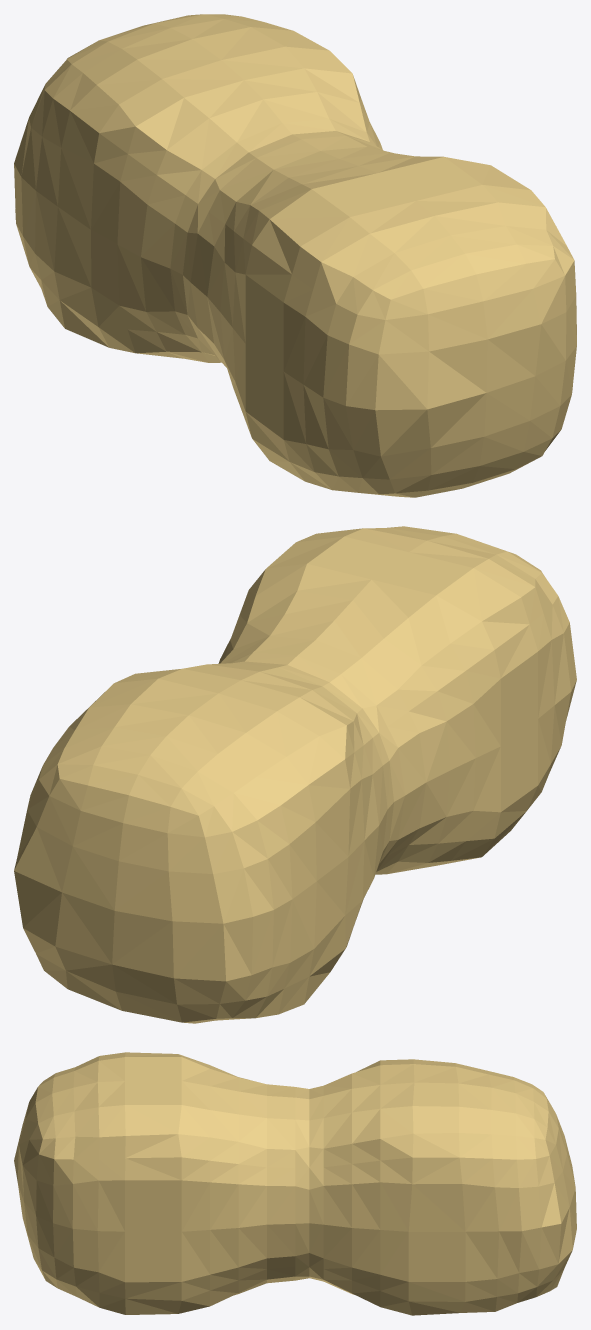
The model's file is beans.dae.
The picture shows the model from 3 angles, top to bottom: view 1: azimuth 30°, elevation 25°; view 2: azimuth 150°, elevation 25°; view 3: azimuth 270°, elevation 25°; orthographic projection. The views are drawn at different scales.
Visible parts, largest first — view 1: Cube; view 2: Cube; view 3: Cube.
Part boxes in pixels (<box>): Cube: <box>14,14,576,497</box>; Cube: <box>14,526,576,1023</box>; Cube: <box>14,1052,576,1315</box>.
Size of the model in its own units: 0.2 by 0.4961 by 0.2.
